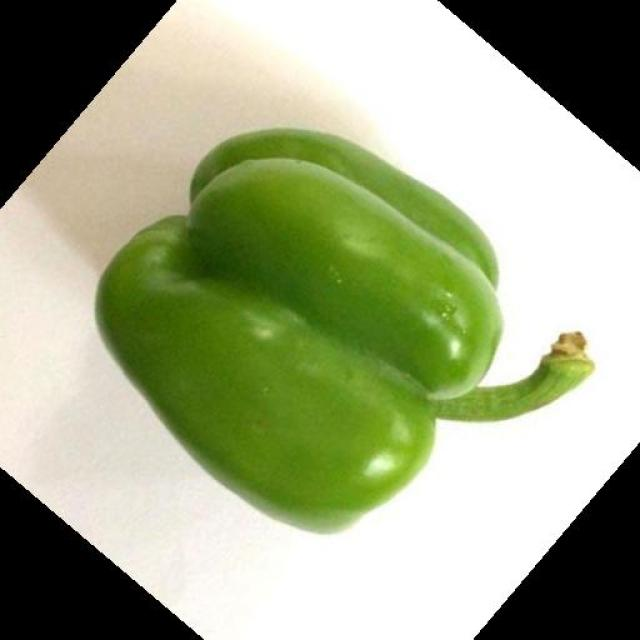Fresh_Capsicum: (141, 106, 549, 499)
